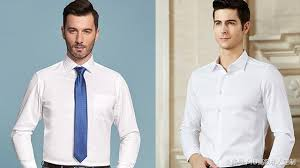F_shirt: (11, 53, 141, 168), (177, 51, 297, 168)
